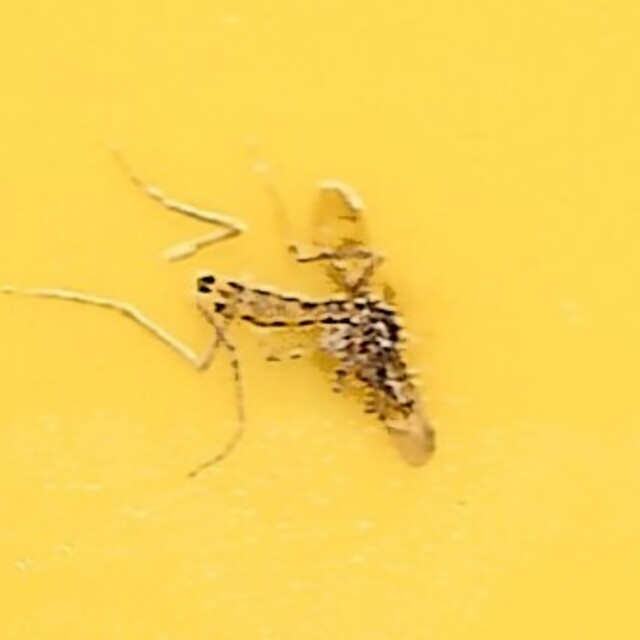Nematocera: (193, 179, 447, 461)
